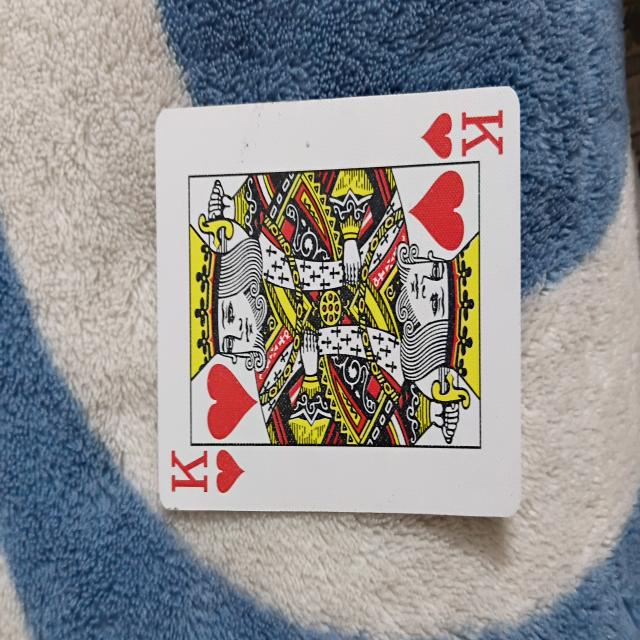KH: (154, 102, 522, 513)
